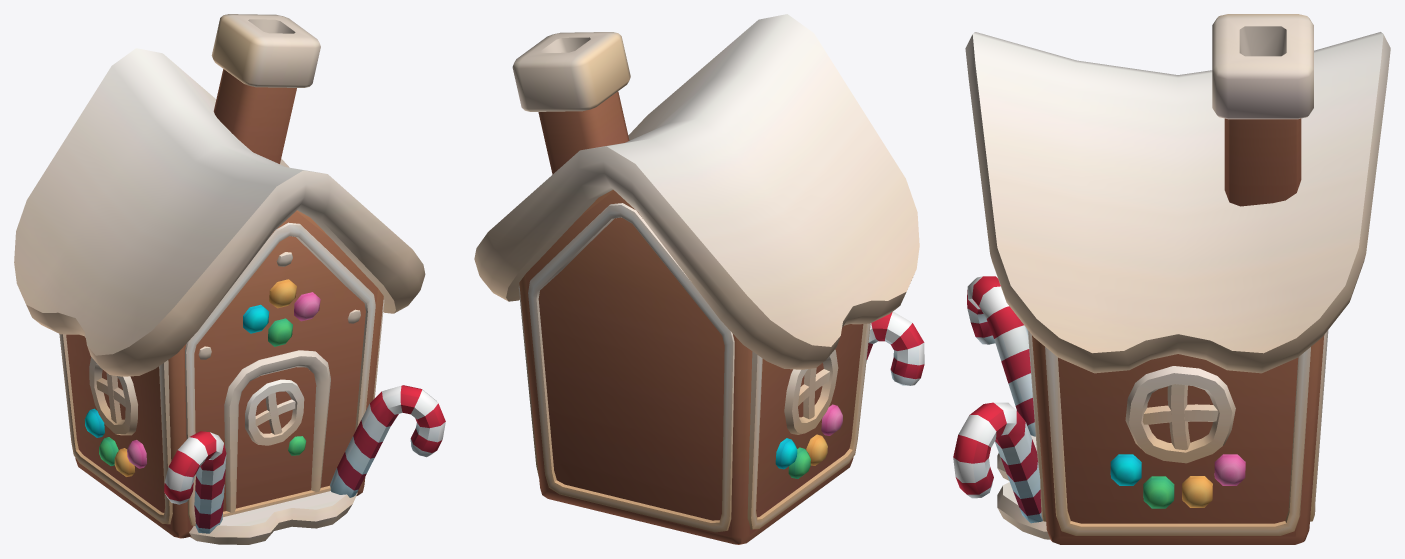
File: pepparkakshus.glb
3 renders of one model, left to right at view 1: azimuth 30°, elevation 25°; view 2: azimuth 150°, elevation 25°; view 3: azimuth 270°, elevation 25°, orthographic. The views are drawn at different scales.
Parts seen in each view (by area): view 1: gingerbread_house; view 2: gingerbread_house; view 3: gingerbread_house.
Boxes of the visible parts, left/top/right/bottom form: gingerbread_house: left=14, top=14, right=445, bottom=544; gingerbread_house: left=474, top=14, right=924, bottom=544; gingerbread_house: left=953, top=14, right=1390, bottom=544.
Bounding box in the file's own units: 1.15 × 1.44 × 1.11.
Materials: 1 (1 with a texture image).
